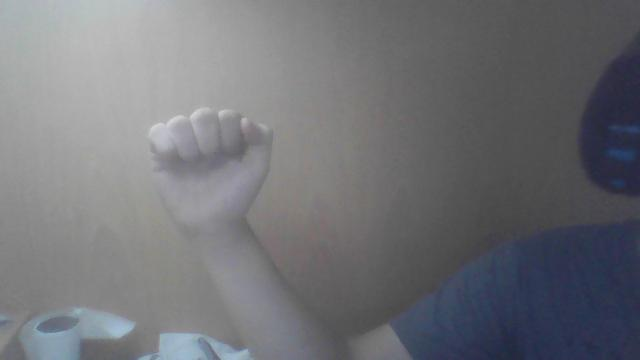forward: (146, 106, 350, 358)
